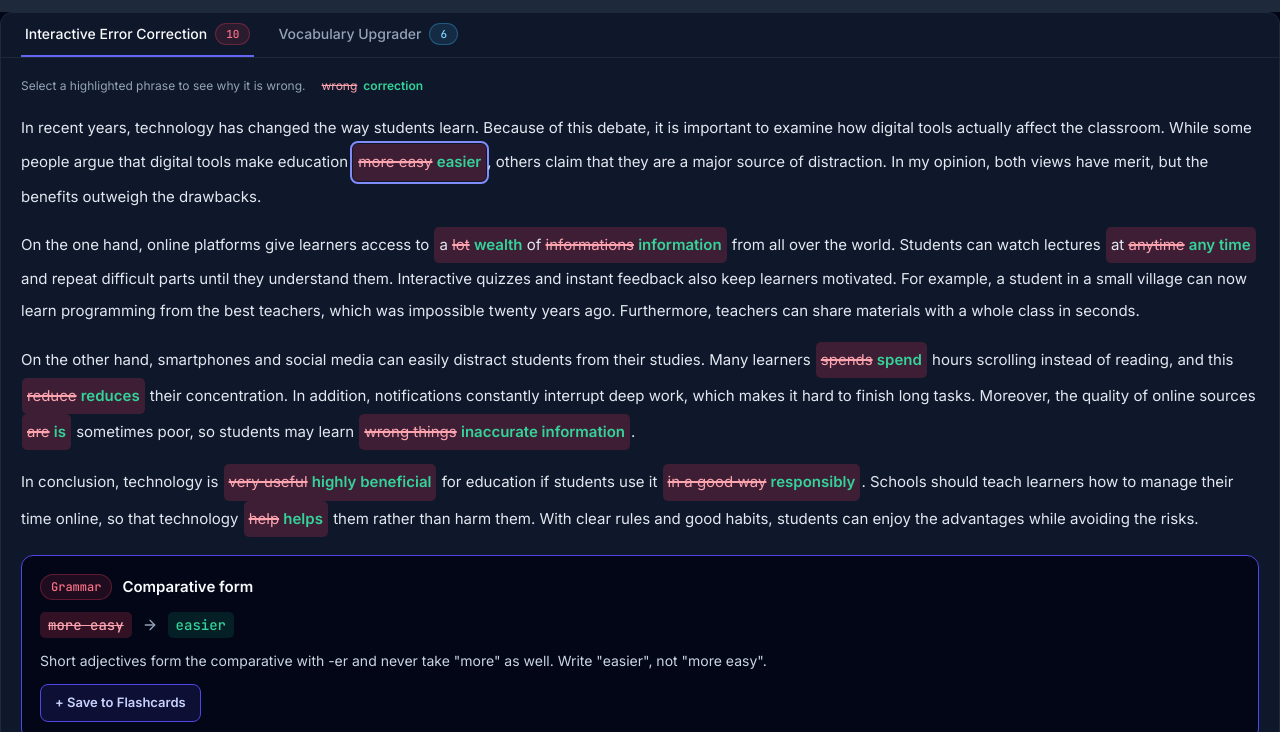
the first mistake is preselected and exactly one is selected at a time
Expected: the text "Comparative form" is shown, [122,576,253,598]
Click the button "spends spend" at {"x": 871, "y": 360}, box [816,342,927,378]
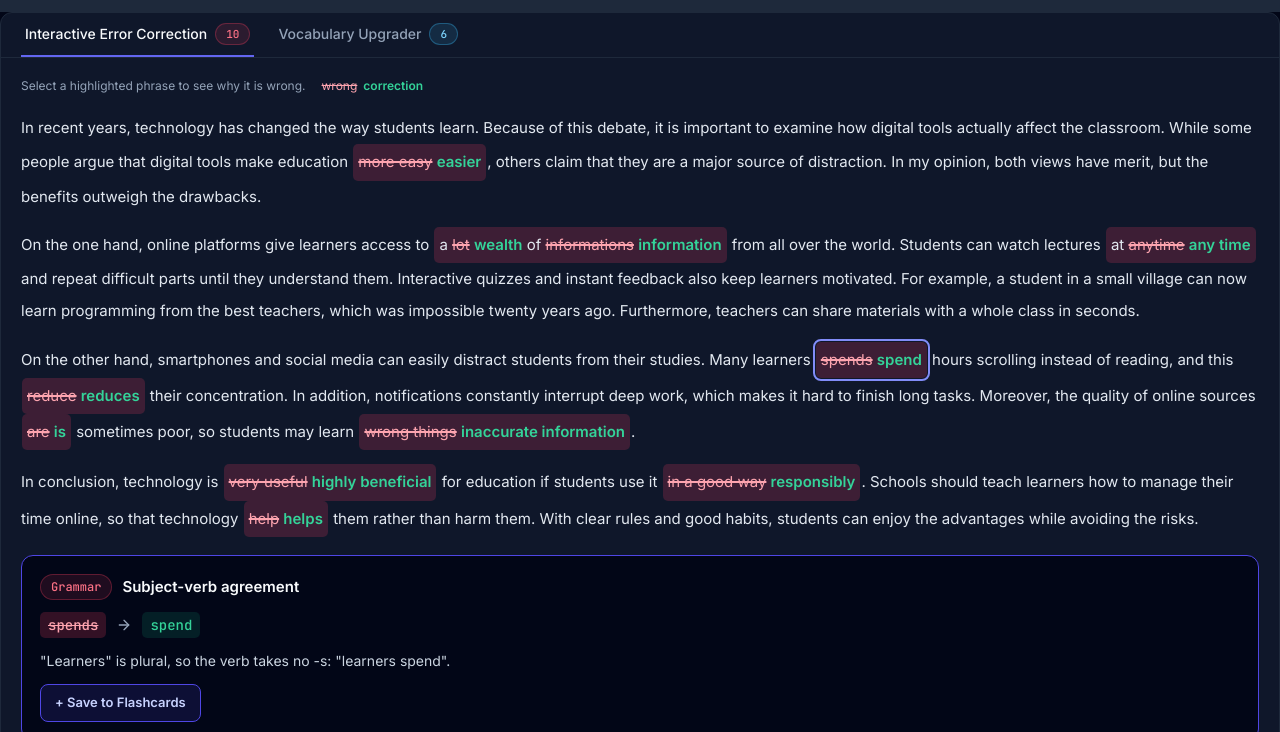
Expected: the text "Subject-verb agreement" is shown, [122,576,299,598]
Expected: the text "\"Learners\" is plural" is shown, [40,652,450,669]
